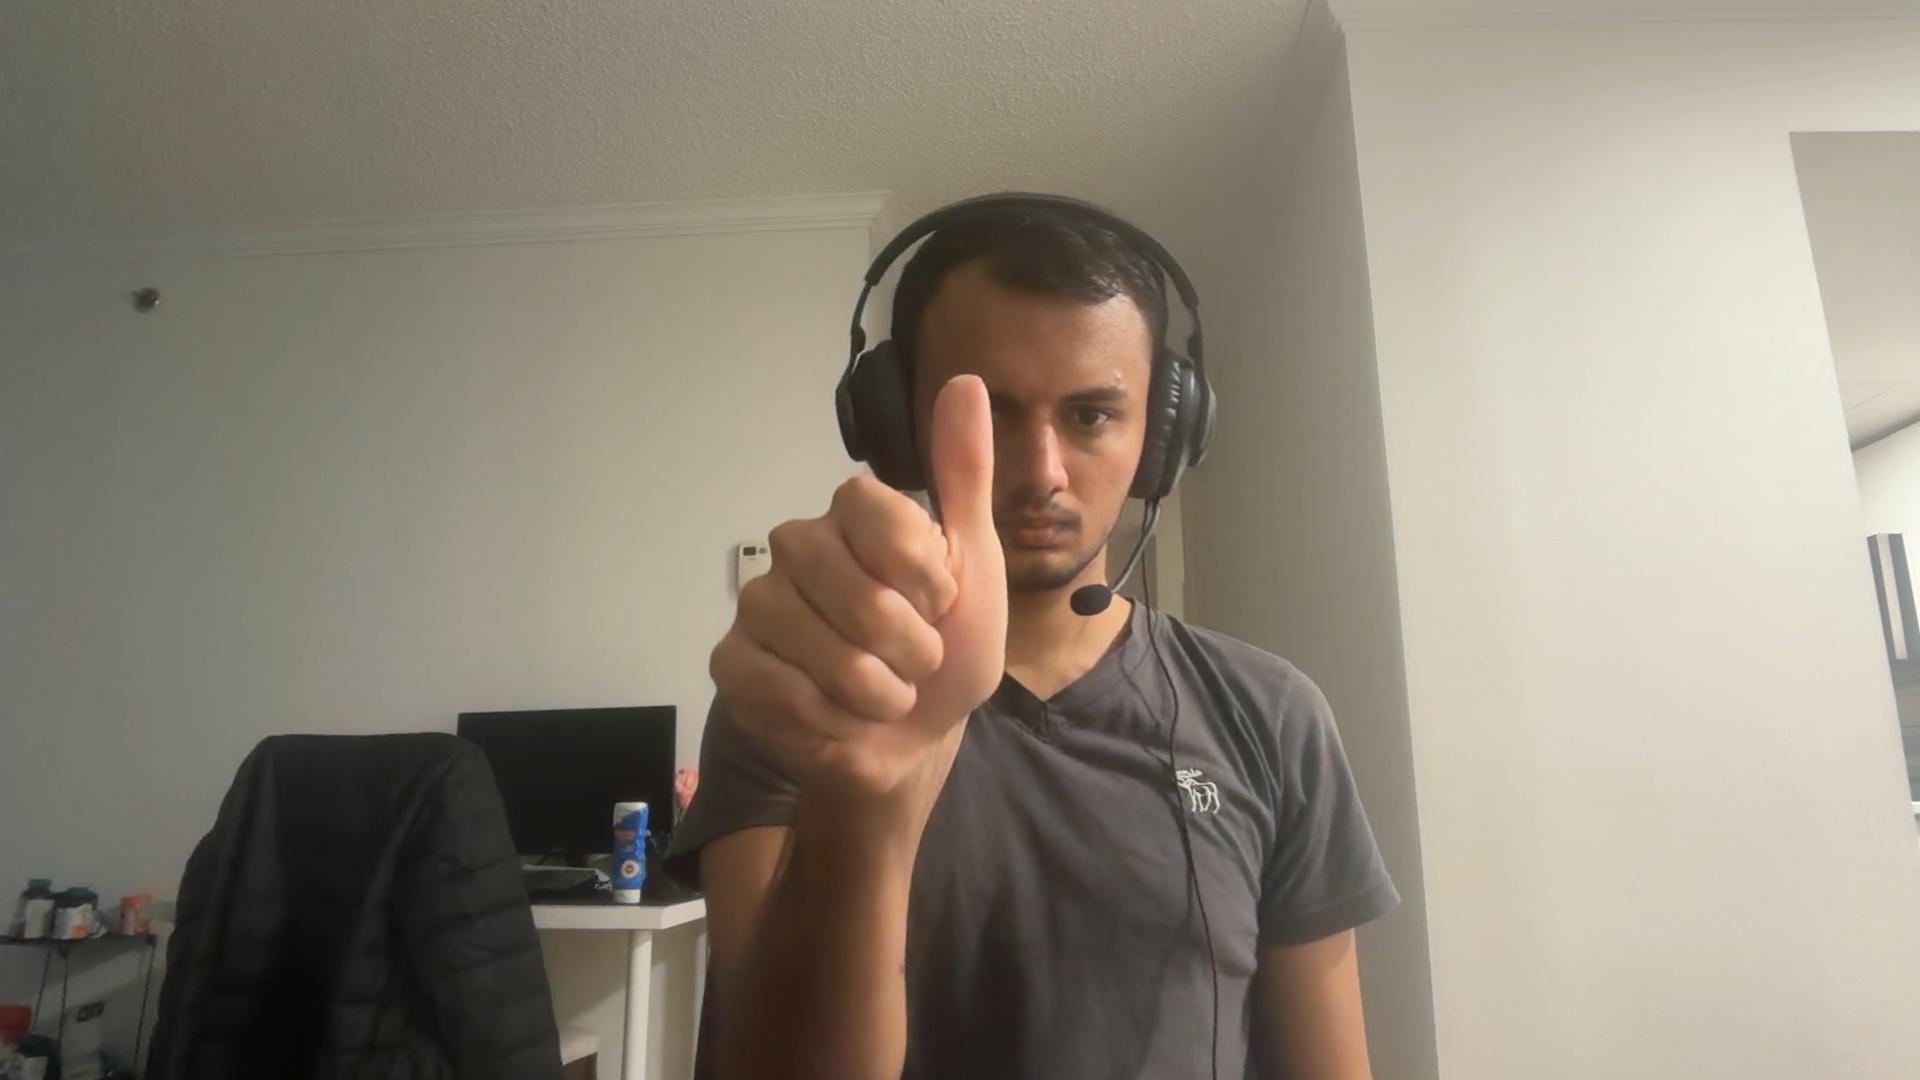thumbsup: (708, 373, 1009, 803)
